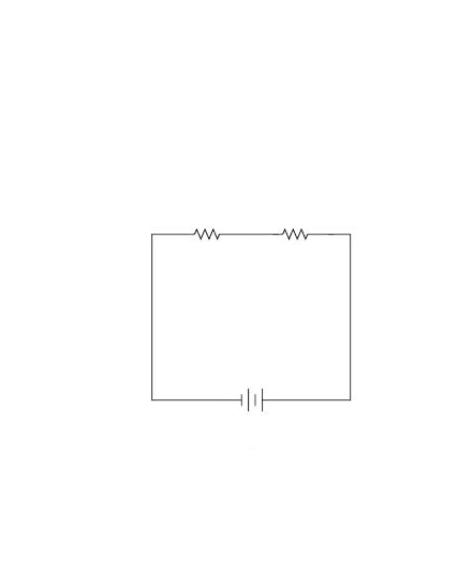resistor: (181, 211, 238, 249), (275, 211, 329, 245)
